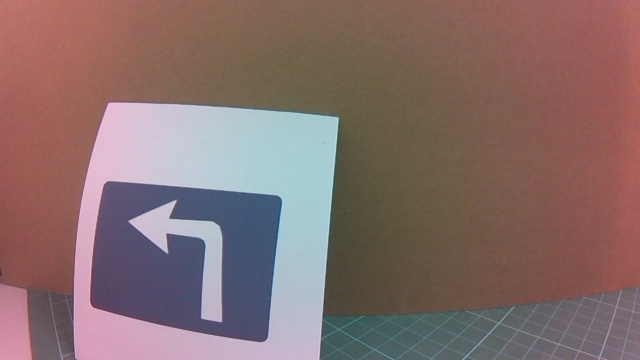left: (108, 170, 300, 338)
